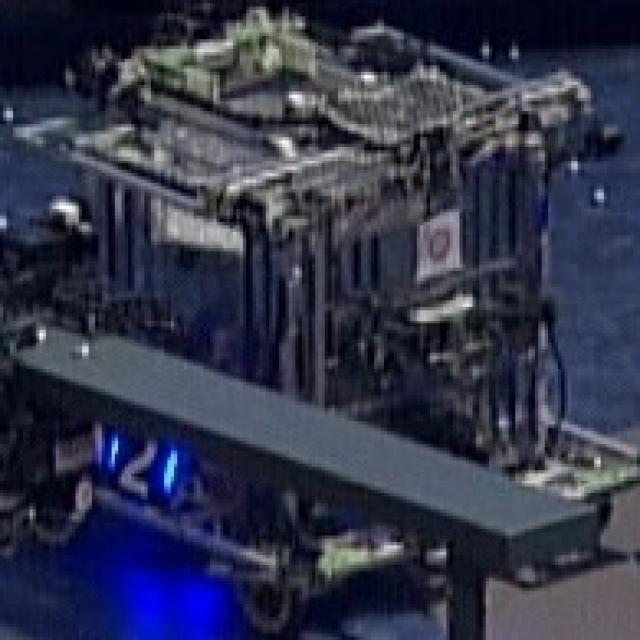B2: (102, 428, 177, 496)
